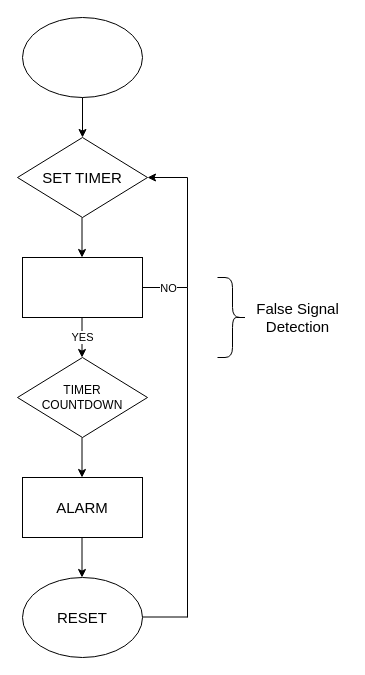
Some shapes in this 365 by 675 pixel diagram are drawn without their labels. The shapes that lost their labels are listed below. From the top down, each one's centre as x and y in pixels, then its label:
pixel 82 57: START
pixel 82 287: SENSOR
